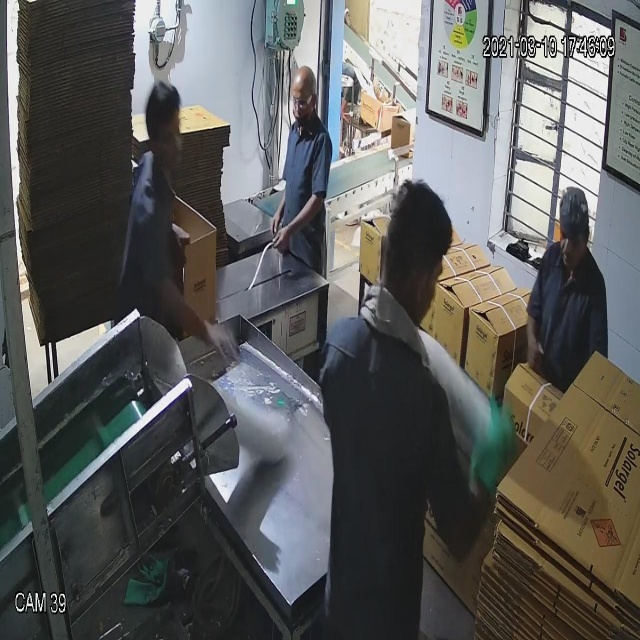Guantes: (462, 392, 523, 513)
Sin_guantes: (143, 255, 240, 370), (267, 195, 332, 269)
